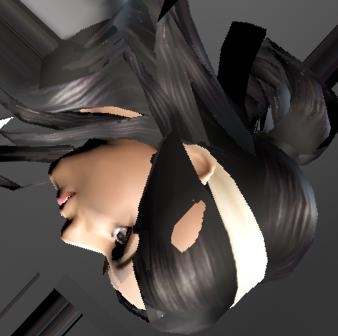clip: (168, 199, 207, 247)
